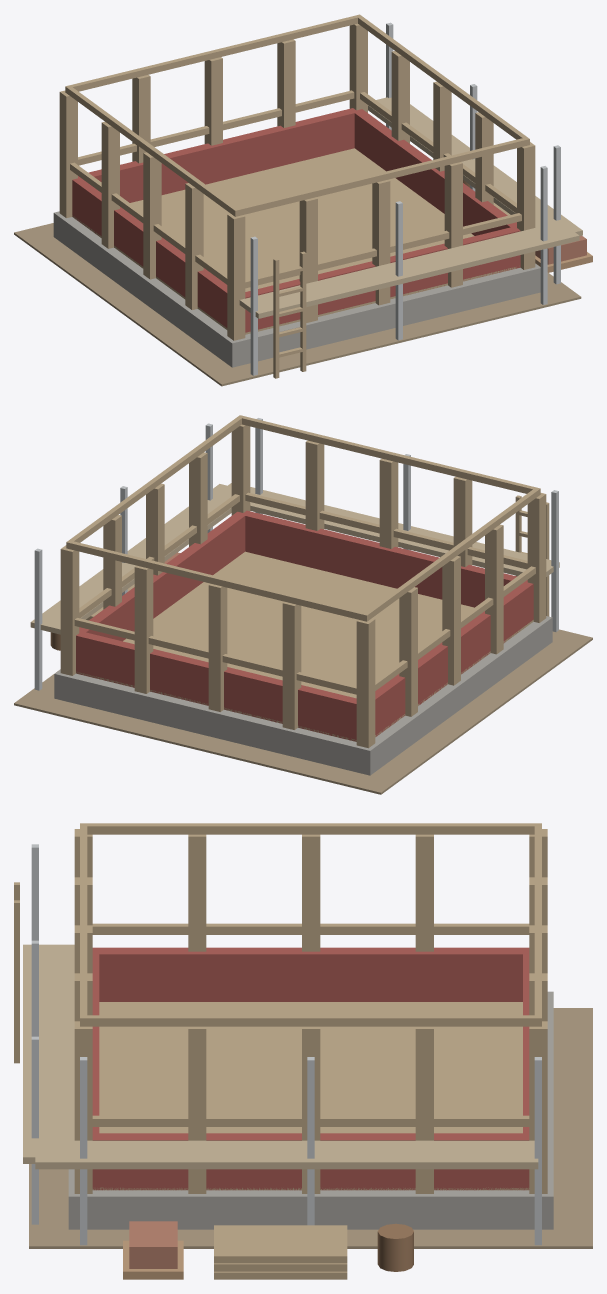
Rendered from cow_shed_site_5.glb.
3 renders of one model, top to bottom at view 1: azimuth 30°, elevation 25°; view 2: azimuth 150°, elevation 25°; view 3: azimuth 270°, elevation 25°, orthographic. The views are drawn at different scales.
Visible parts, largest first — view 1: body; view 2: body; view 3: body.
Boxes of the visible parts, box(x1,y1,x2,y2) form: body: box(14, 14, 592, 386); body: box(14, 415, 592, 794); body: box(14, 823, 592, 1279).
Size of the model in its own units: 2.1 by 0.761 by 1.91.
